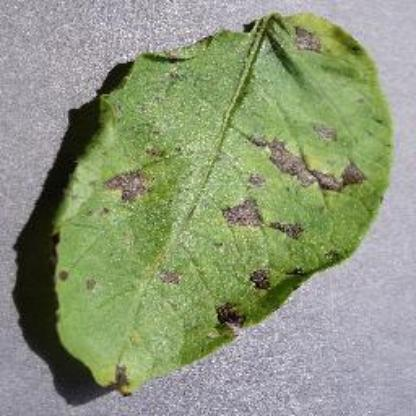Early-Blight: (44, 6, 402, 396)
